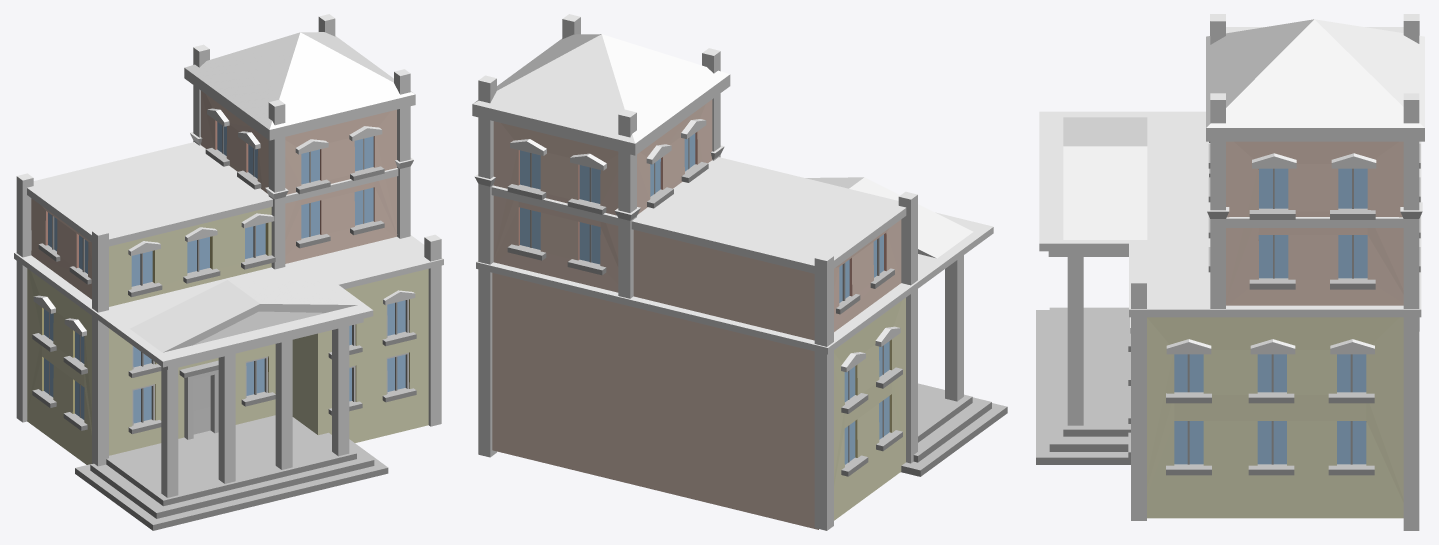
File: house_art_004.glb
3 renders of one model, left to right at view 1: azimuth 30°, elevation 25°; view 2: azimuth 150°, elevation 25°; view 3: azimuth 270°, elevation 25°, orthographic. The views are drawn at different scales.
Parts seen in each view (by area): view 1: house_art_004; view 2: house_art_004; view 3: house_art_004.
Boxes of the visible parts, <box> form: house_art_004: <box>14,14,443,530</box>; house_art_004: <box>472,14,1007,530</box>; house_art_004: <box>1036,14,1424,530</box>.
Bounding box in the file's own units: 13.59 × 14.4 × 10.84.
1 material, 1 textured.
